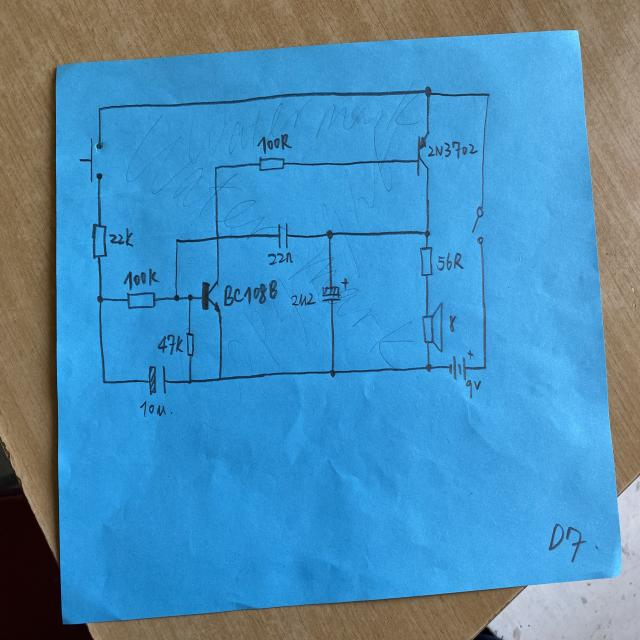capacitor: (142, 362, 169, 398), (318, 278, 349, 308), (276, 221, 290, 250)
crossover: (214, 232, 221, 242)
junction: (423, 85, 433, 98), (325, 228, 334, 241), (424, 361, 433, 373), (186, 292, 194, 304), (95, 294, 104, 304), (328, 368, 337, 378), (173, 292, 181, 303), (423, 228, 431, 238), (484, 90, 492, 100), (216, 373, 224, 383), (186, 376, 194, 386), (481, 362, 489, 372), (173, 236, 180, 246), (96, 104, 103, 114), (101, 377, 107, 386), (213, 164, 218, 171)
resistor: (91, 222, 108, 260), (125, 290, 157, 310), (418, 244, 434, 279), (257, 156, 286, 172), (184, 329, 196, 355)
source: (448, 349, 474, 381)
switch: (78, 136, 106, 183), (468, 205, 486, 246)
text: (223, 279, 280, 307), (428, 140, 478, 160), (122, 267, 159, 291), (256, 133, 293, 155), (435, 250, 465, 275), (156, 332, 184, 358), (138, 400, 168, 418), (108, 228, 134, 248), (266, 250, 294, 266), (290, 291, 316, 308), (465, 378, 482, 398), (449, 314, 458, 333)
transistor: (198, 275, 224, 317), (413, 131, 431, 179)
